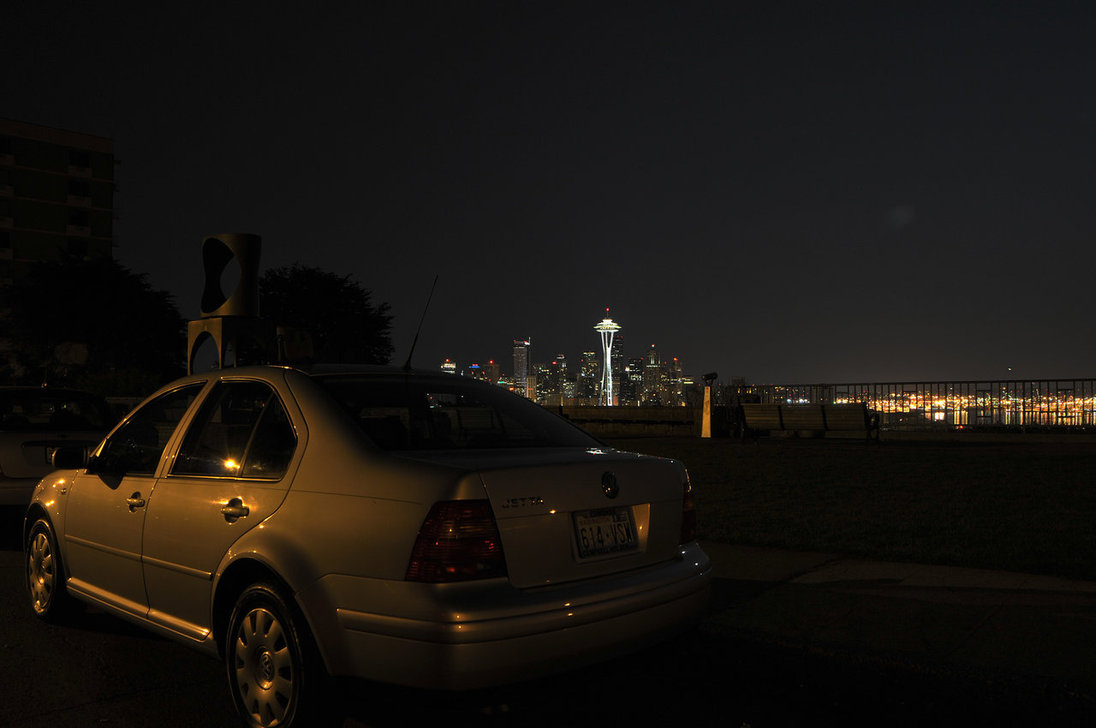car: (20, 350, 728, 724)
